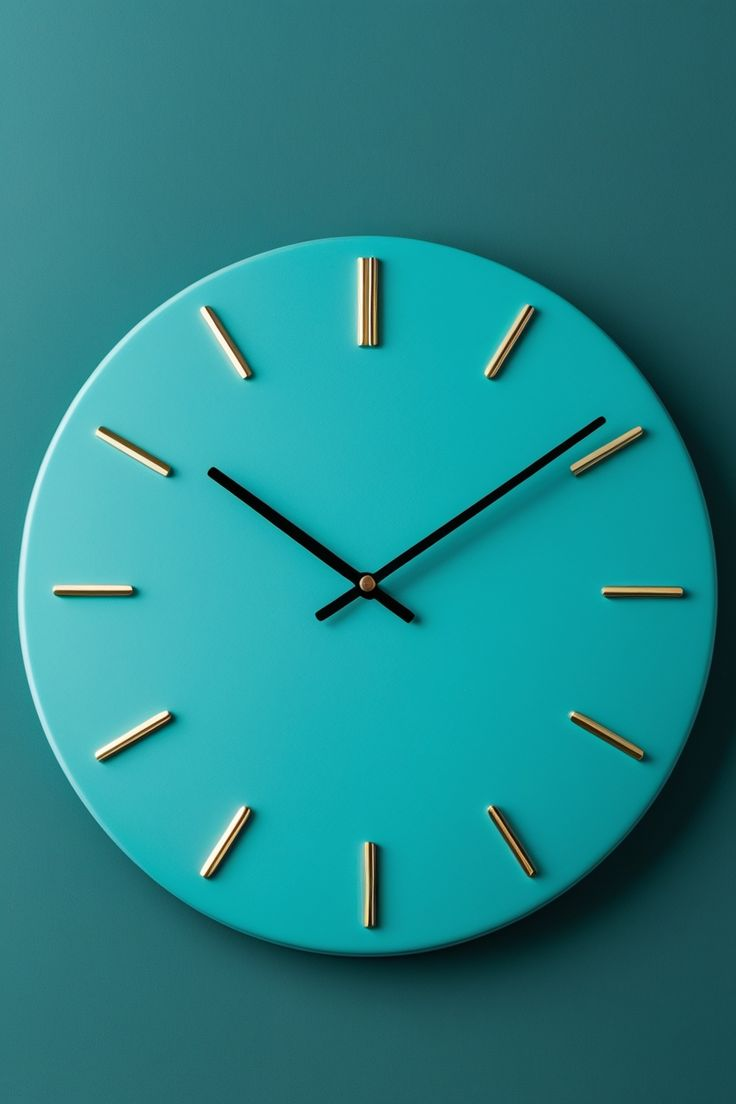clock: (15, 151, 736, 978)
